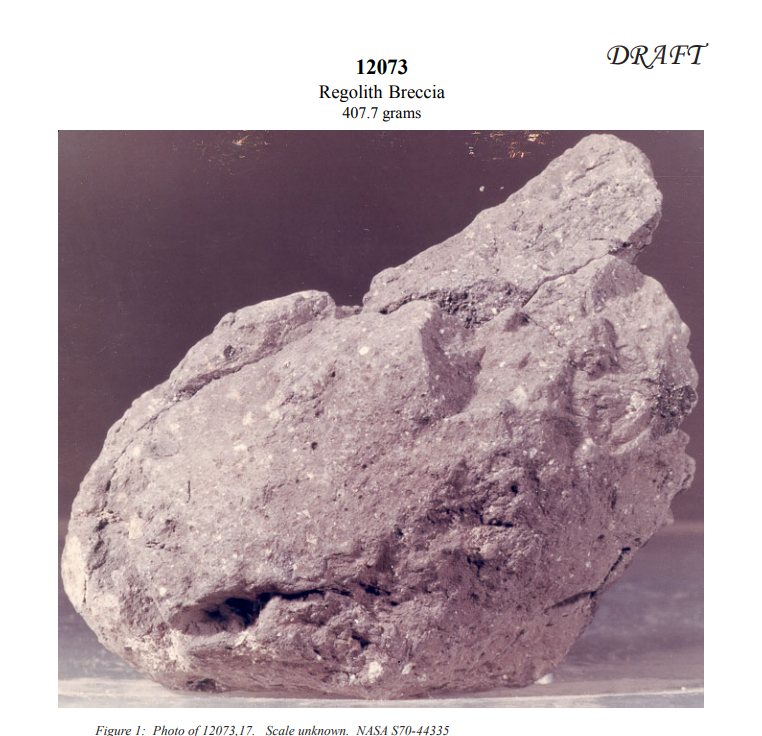Breccia: (67, 126, 704, 699)
